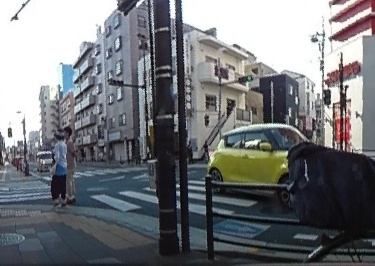person: (50, 126, 67, 209), (63, 125, 75, 201)
